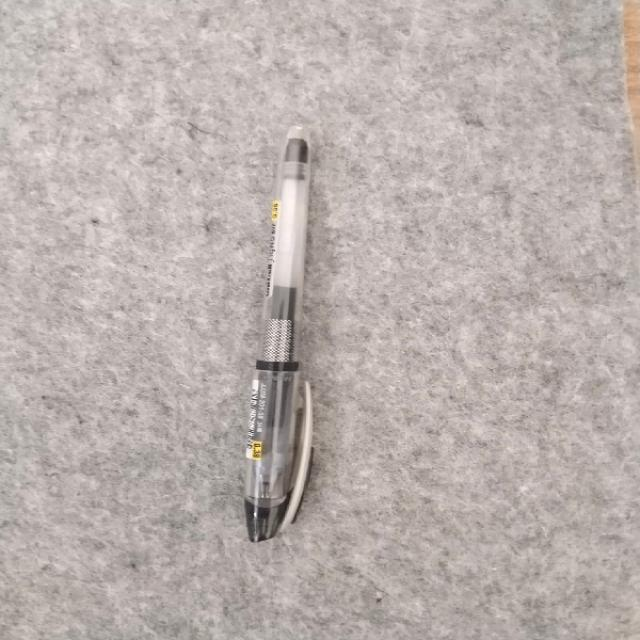pen: (246, 126, 312, 541)
